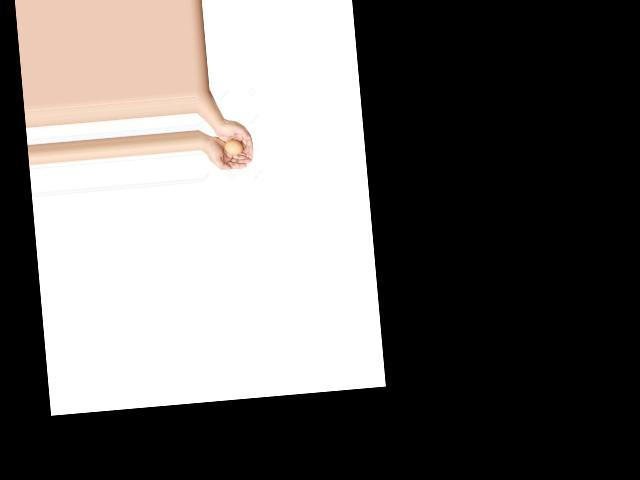egg: (224, 138, 242, 155)
